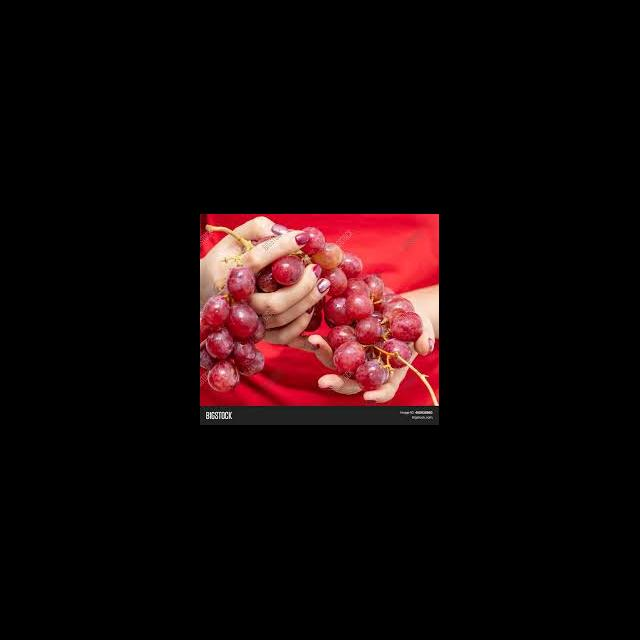grape: (322, 266, 419, 388), (200, 270, 271, 389)
